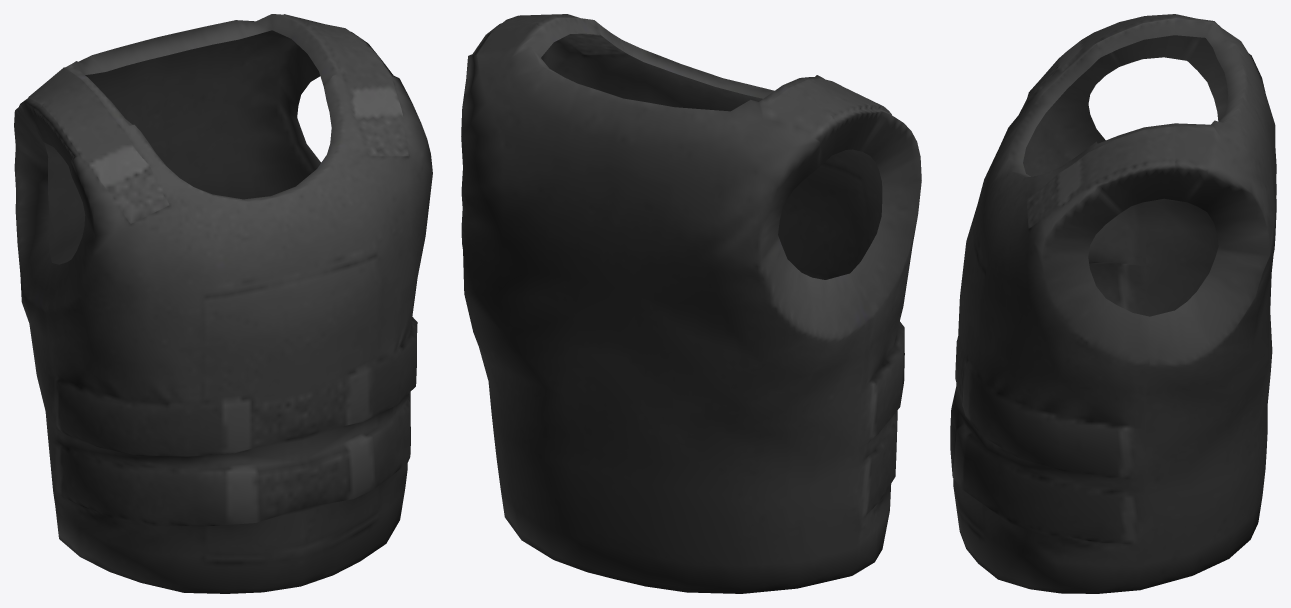
File: vest_t1.4ff39043eb.glb
The picture shows the model from 3 angles, left to right: view 1: azimuth 30°, elevation 25°; view 2: azimuth 150°, elevation 25°; view 3: azimuth 270°, elevation 25°; orthographic projection. The views are drawn at different scales.
Parts seen in each view (by area): view 1: vest_t1; view 2: vest_t1; view 3: vest_t1.
Part boxes in pixels (box(x1,y1,x2,y2)): vest_t1: box(14, 14, 432, 593); vest_t1: box(461, 14, 921, 593); vest_t1: box(950, 14, 1276, 593).
Bounding box in the file's own units: 0.4464 × 0.56 × 0.359.
1 material, 1 textured.
